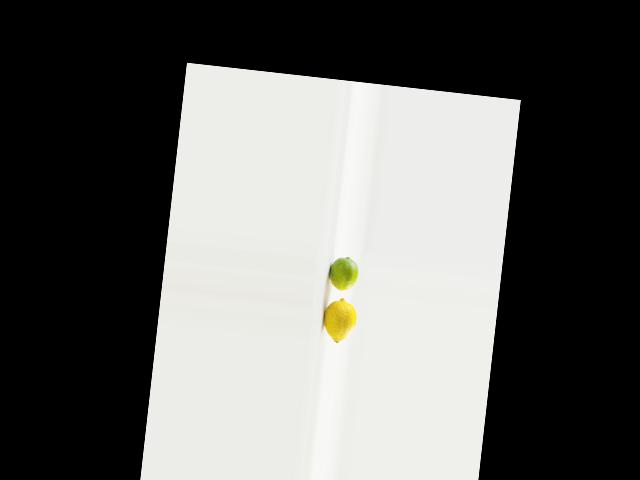lemon: (320, 298, 360, 344)
